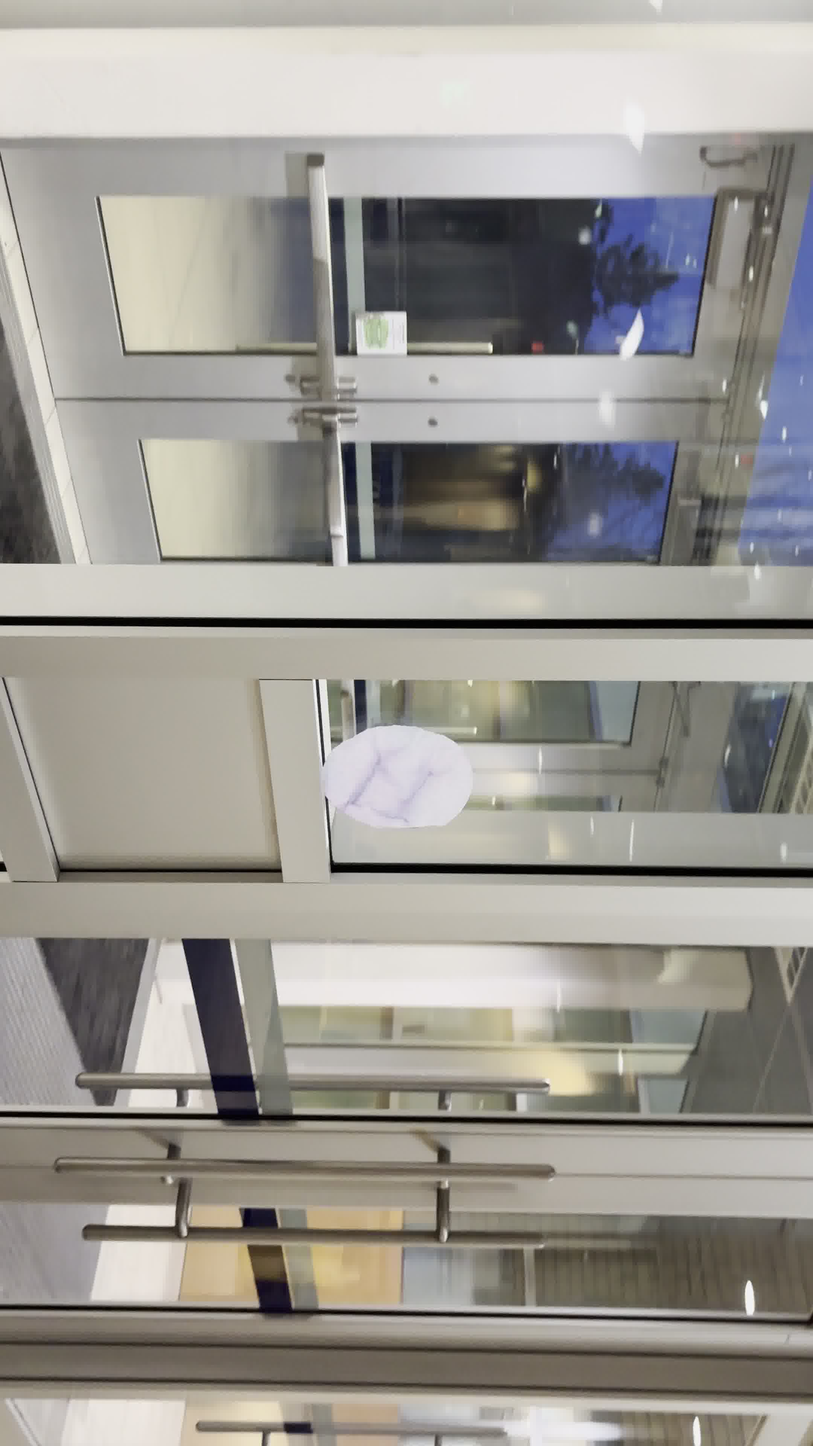Target: (319, 725, 474, 830)
